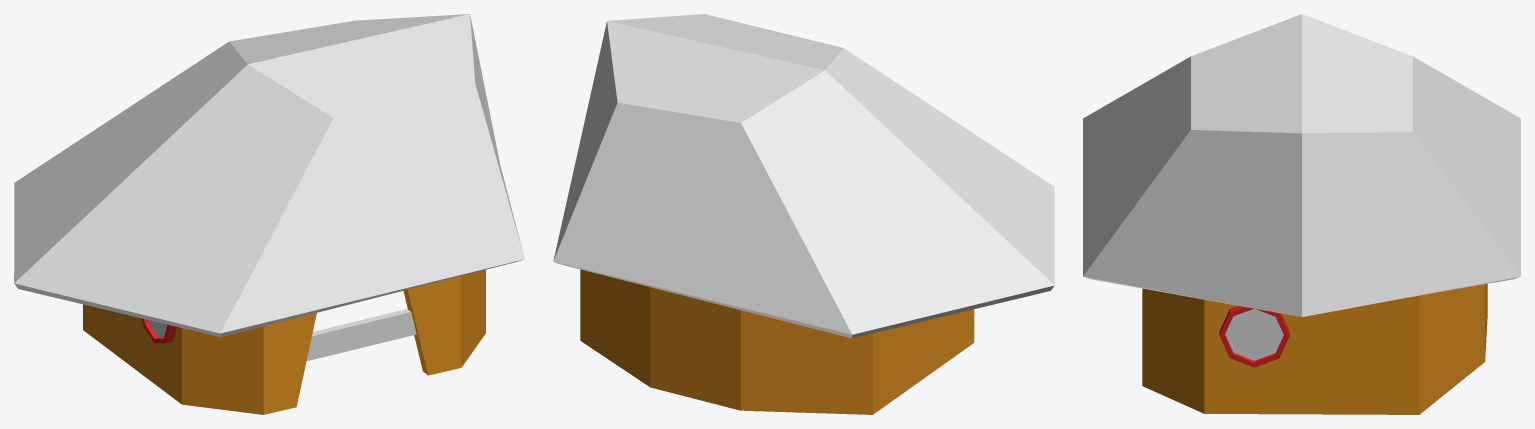
Rendered from SM_TribouliShortcutHouse.fbx.
The picture shows the model from 3 angles, left to right: view 1: azimuth 30°, elevation 25°; view 2: azimuth 150°, elevation 25°; view 3: azimuth 270°, elevation 25°; orthographic projection. The views are drawn at different scales.
Parts seen in each view (by area): view 1: Cube.055, Cylinder.033, Cube.056, Cylinder.034; view 2: Cube.055, Cylinder.033; view 3: Cube.055, Cylinder.033, Cylinder.035.
Boxes of the visible parts, <box> form: Cube.055: <box>14,14,524,337</box>; Cylinder.033: <box>83,270,485,414</box>; Cube.056: <box>306,309,416,360</box>; Cylinder.034: <box>142,318,176,343</box>; Cube.055: <box>553,14,1054,338</box>; Cylinder.033: <box>580,269,974,414</box>; Cube.055: <box>1083,14,1520,316</box>; Cylinder.033: <box>1142,284,1487,414</box>; Cylinder.035: <box>1219,306,1289,367</box>.
Bounding box in the file's own units: 505 × 280 × 370.
